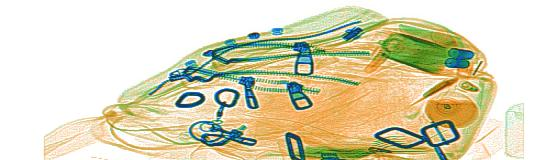battery: (443, 48, 476, 71)
plasticBottleWithaNozzle: (425, 88, 479, 131)
